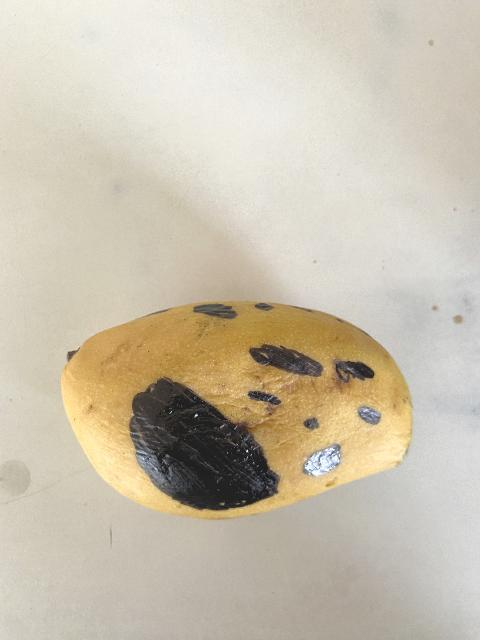Mango Overripe: (37, 270, 435, 550)
